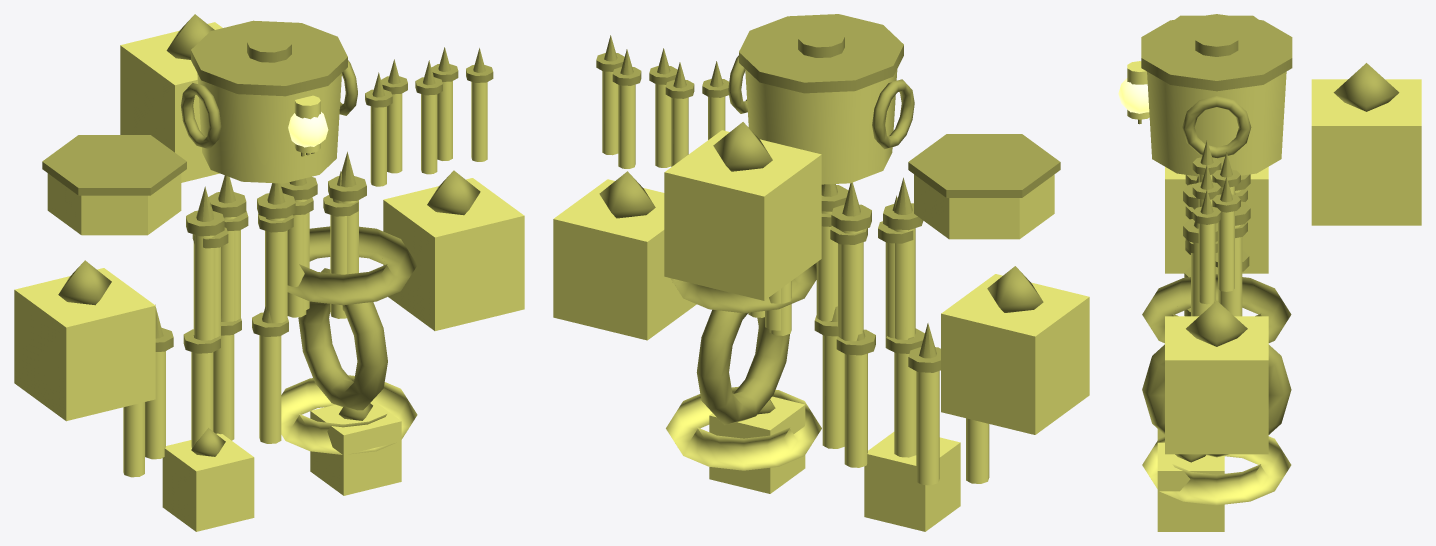
Rendered from golem_008.glb.
3 renders of one model, left to right at view 1: azimuth 30°, elevation 25°; view 2: azimuth 150°, elevation 25°; view 3: azimuth 270°, elevation 25°, orthographic. The views are drawn at different scales.
Visible parts, largest first — view 1: Body, Detail, Glow; view 2: Body, Detail; view 3: Body, Detail, Glow.
Part boxes in pixels (left/top/right/bottom): Body: left=14, top=22, right=524, bottom=531; Detail: left=42, top=14, right=493, bottom=456; Glow: left=288, top=112, right=328, bottom=147; Body: left=553, top=69, right=1089, bottom=531; Detail: left=596, top=14, right=1060, bottom=425; Body: left=1127, top=61, right=1421, bottom=531; Detail: left=1138, top=14, right=1399, bottom=462; Glow: left=1118, top=78, right=1149, bottom=113.
Size of the model in its own units: 1.39 by 1.28 by 0.7936.
